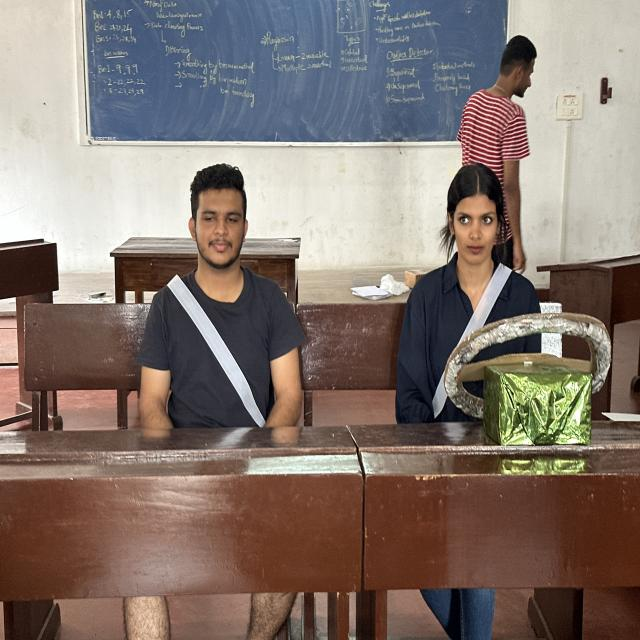seatbelt: (156, 284, 321, 444), (403, 265, 551, 427)
